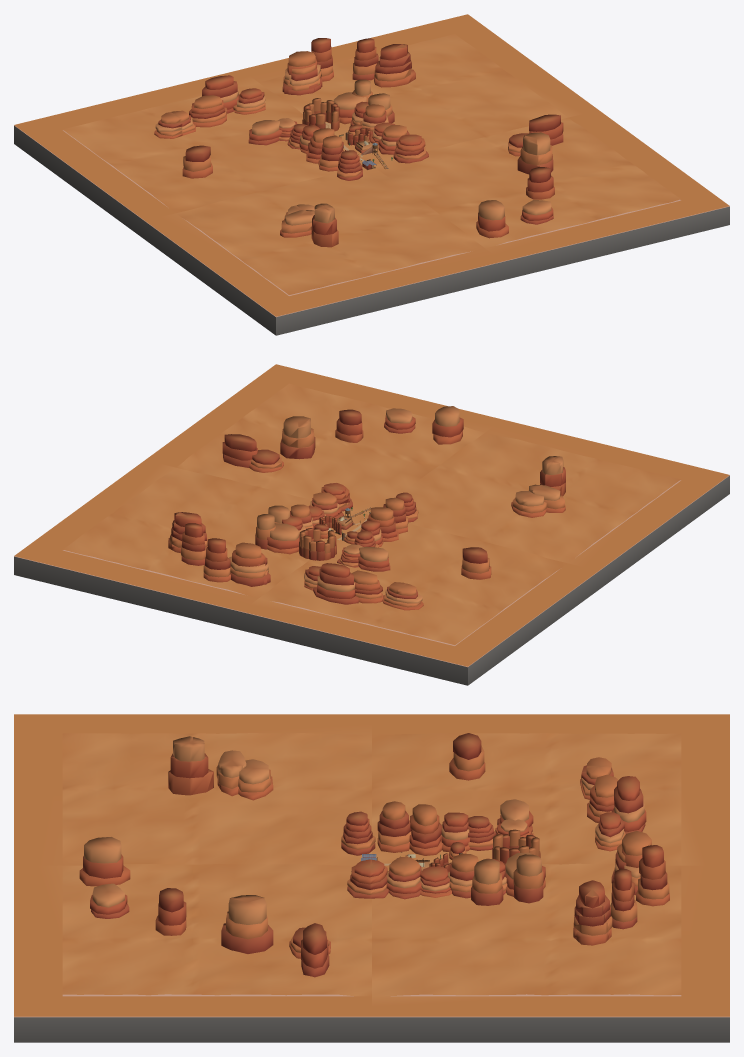
3 renders of one model, top to bottom at view 1: azimuth 30°, elevation 25°; view 2: azimuth 150°, elevation 25°; view 3: azimuth 270°, elevation 25°, orthographic. The views are drawn at different scales.
Parts seen in each view (by area): view 1: near-placeholder; view 2: near-placeholder; view 3: near-placeholder.
Boxes of the visible parts, <box> form: near-placeholder: <box>14,14,729,335</box>; near-placeholder: <box>14,364,729,685</box>; near-placeholder: <box>14,714,729,1042</box>.
Size of the model in its own units: 500 by 58.2 by 500.
